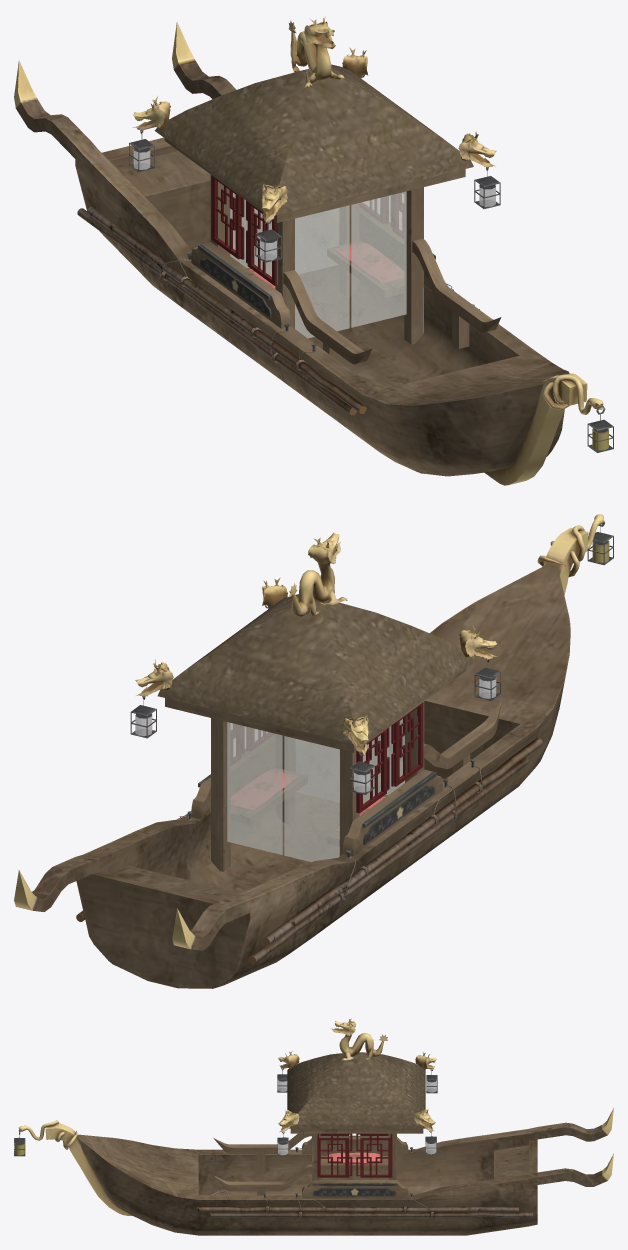
File: boat.glb
The picture shows the model from 3 angles, top to bottom: view 1: azimuth 30°, elevation 25°; view 2: azimuth 150°, elevation 25°; view 3: azimuth 270°, elevation 25°; orthographic projection. The views are drawn at different scales.
Parts seen in each view (by area): view 1: Ship_Boat_0, Ship_Curtains_0; view 2: Ship_Boat_0, Ship_Curtains_0; view 3: Ship_Boat_0, Ship_Curtains_0.
Boxes of the visible parts, x1,y1,x2,y2 form: Ship_Boat_0: [14, 16, 613, 485]; Ship_Curtains_0: [133, 149, 495, 338]; Ship_Boat_0: [14, 514, 613, 988]; Ship_Curtains_0: [135, 677, 496, 862]; Ship_Boat_0: [14, 1018, 613, 1235]; Ship_Curtains_0: [277, 1080, 436, 1155].
Bounding box in the file's own units: 6.24 × 8.79 × 23.2.
Materials: 3 (3 with a texture image).
